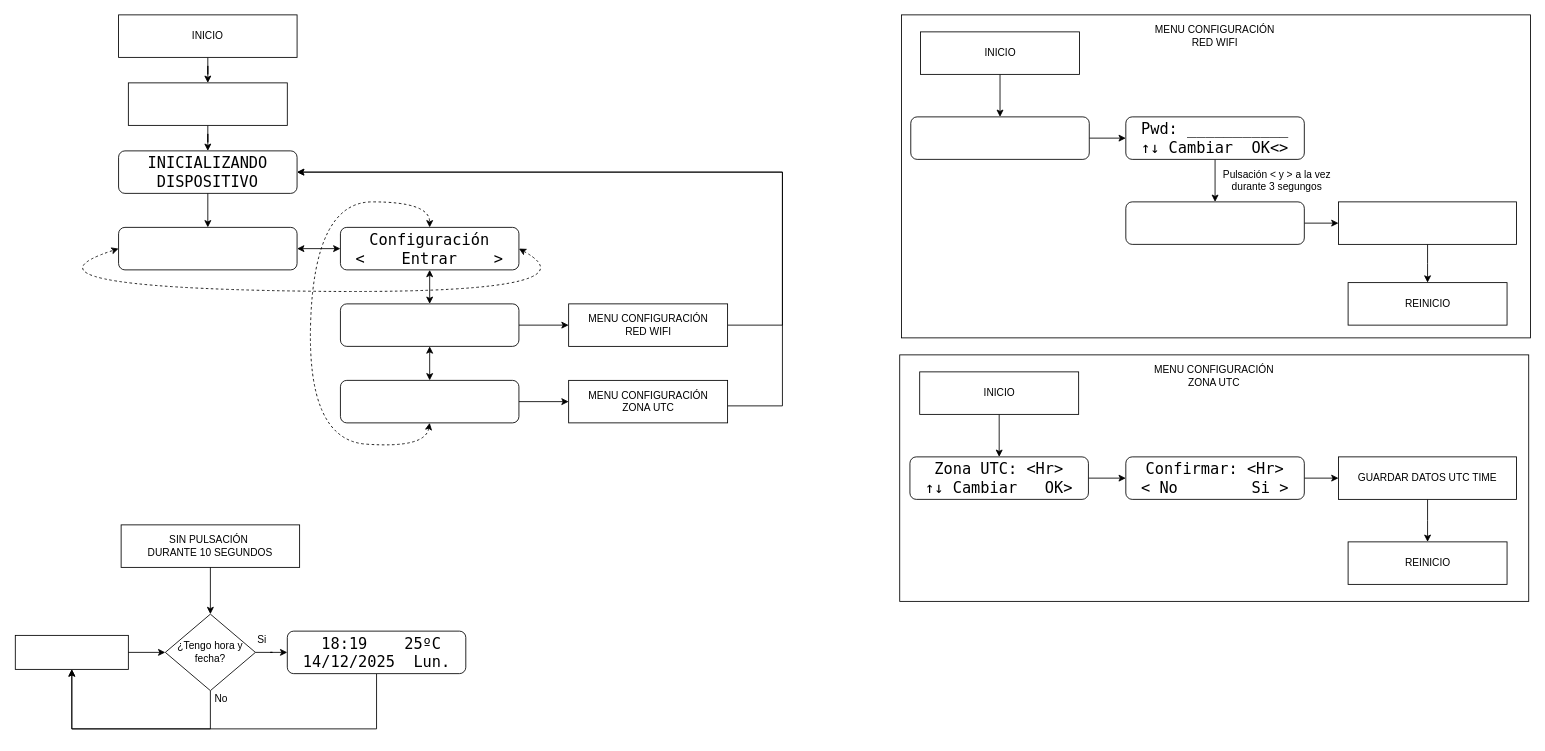
This 1545x751 diagram has some shape labels left out. Each missing label, with the box of its shape:
Conf. Red wifi ↑↓ OK >: (340, 303, 519, 346)
Conf. UTC Time ↑↓ OK >: (340, 380, 519, 423)
Esperar 60 segundos: (14, 635, 128, 669)
GUARDAR DATOS WIFI: (1338, 201, 1517, 244)
INICIALIZAR MODULOS: (128, 82, 287, 125)
Persiana<Nombre> < ↑ ↓ >: (118, 227, 297, 270)
Pwd: ___________ Confirmar en Xs: (1125, 201, 1304, 244)
Red: <Nombre> ↑↓ Cambiar OK>: (910, 116, 1089, 159)
